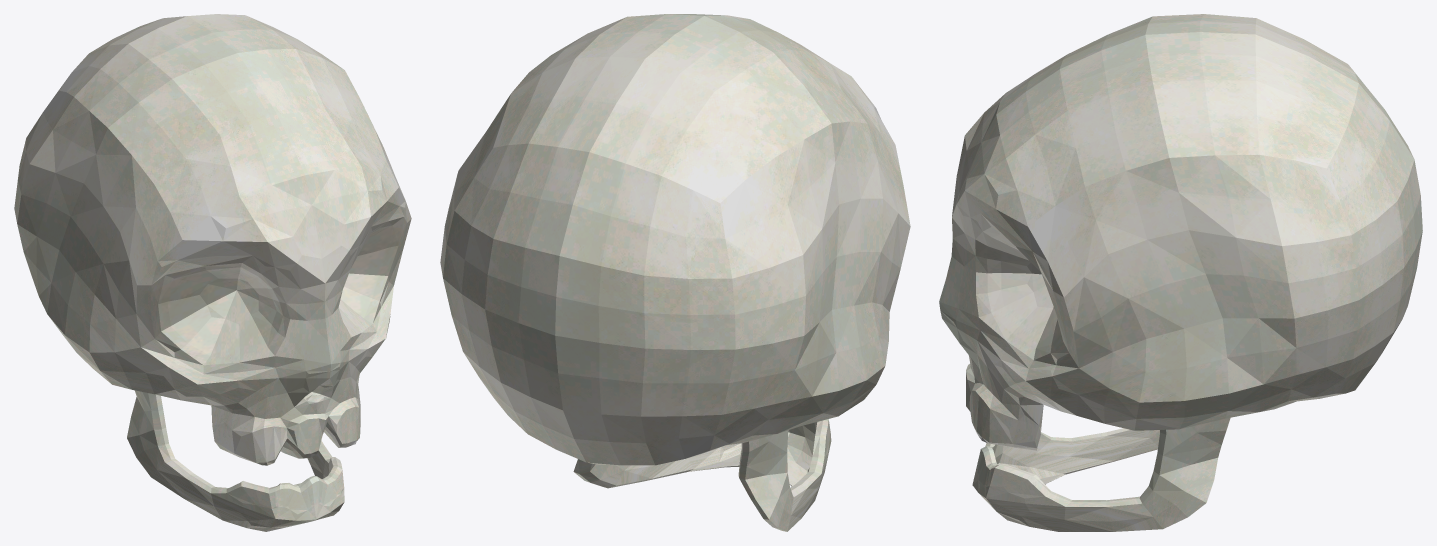
The model's file is skull.fbx.
3 views of the same model, side by side, from view 1: azimuth 30°, elevation 25°; view 2: azimuth 150°, elevation 25°; view 3: azimuth 270°, elevation 25° (orthographic). The views are drawn at different scales.
Visible parts, largest first — view 1: Skull; view 2: Skull; view 3: Skull.
Part boxes in pixels (x1,y1,x2,y2): Skull: [14, 14, 411, 531]; Skull: [440, 14, 910, 531]; Skull: [939, 14, 1422, 531].
Size of the model in its own units: 351 by 464 by 431.
1 material, 1 textured.
